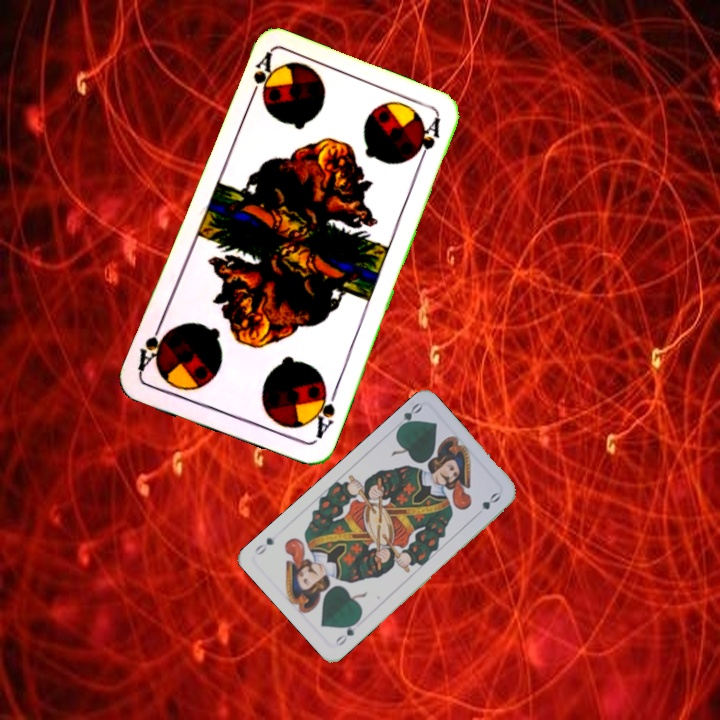GO: (393, 399, 425, 434), (331, 615, 362, 649)
SA: (307, 383, 340, 443), (244, 49, 275, 106)
